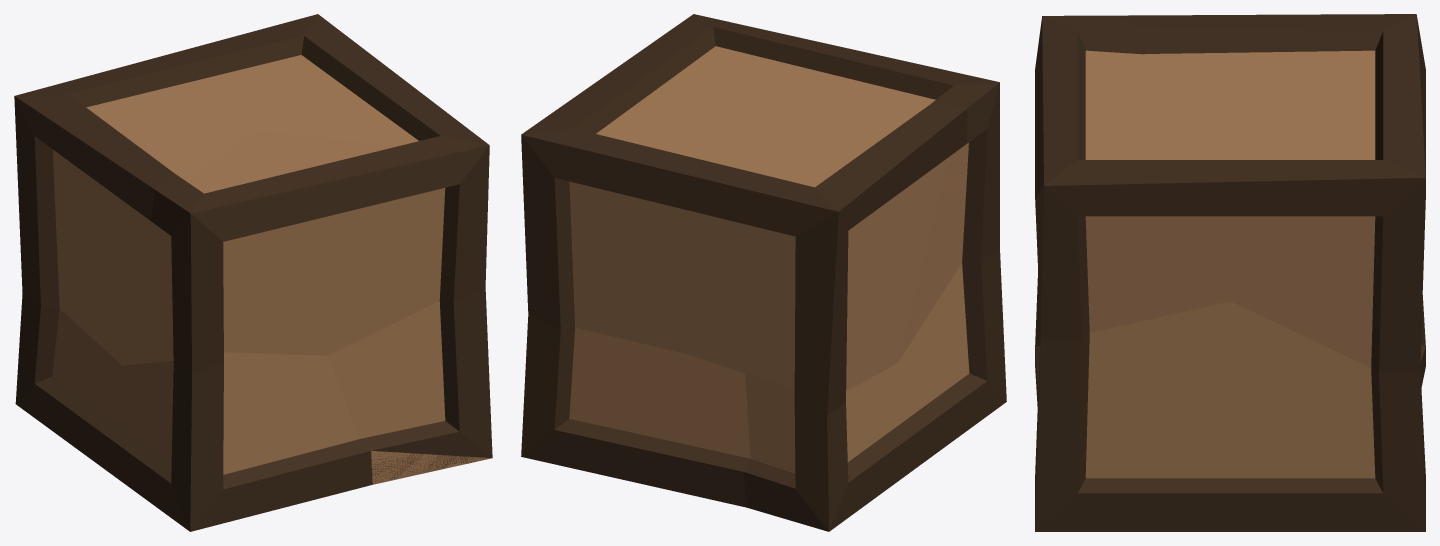
The model's file is wooden box.fbx.
The picture shows the model from 3 angles, left to right: view 1: azimuth 30°, elevation 25°; view 2: azimuth 150°, elevation 25°; view 3: azimuth 270°, elevation 25°; orthographic projection. The views are drawn at different scales.
Parts seen in each view (by area): view 1: wood box, wood box .001, wood box .003, wood box .002; view 2: wood box .001, wood box, wood box .003, wood box .002; view 3: wood box, wood box .002, wood box .001, wood box .003.
Part boxes in pixels (<box>): wood box: <box>122,14,489,376</box>; wood box .001: <box>14,14,317,365</box>; wood box .003: <box>15,294,372,531</box>; wood box .002: <box>328,287,492,484</box>; wood box .001: <box>521,105,967,415</box>; wood box: <box>521,14,999,361</box>; wood box .003: <box>743,247,1006,531</box>; wood box .002: <box>521,314,750,507</box>; wood box: <box>1035,15,1425,373</box>; wood box .002: <box>1035,301,1425,531</box>; wood box .001: <box>1118,14,1425,177</box>; wood box .003: <box>1035,271,1425,405</box>.
Bounding box in the file's own units: 1.19 × 1.17 × 1.16.
